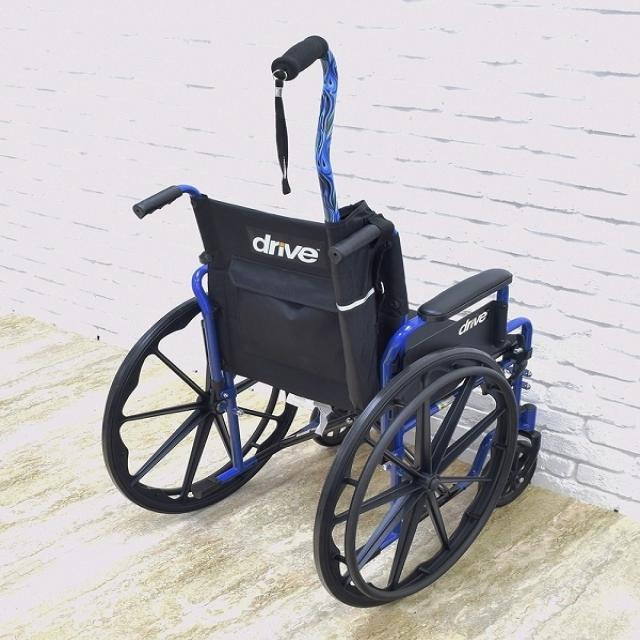wheelchair: (86, 23, 557, 614)
